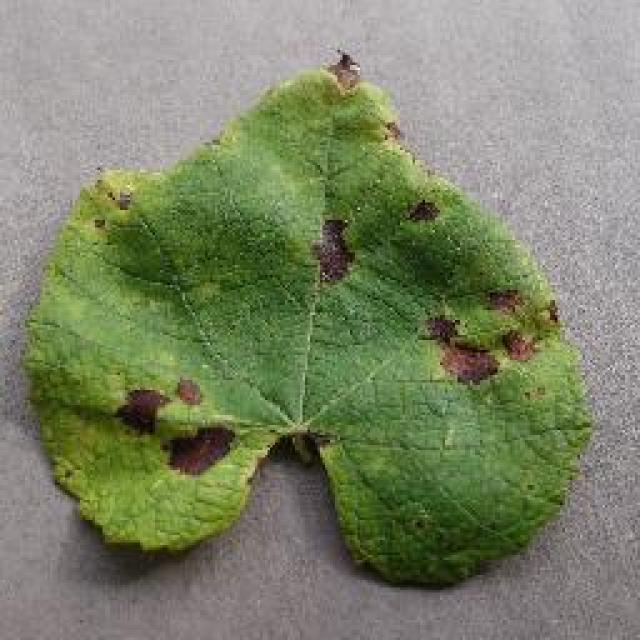Blight Fungus: (0, 54, 593, 608)
